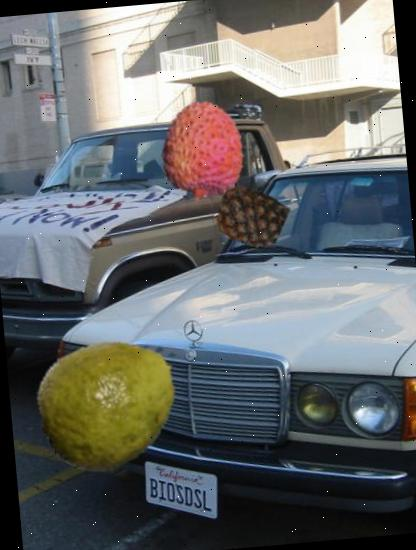Guava: (32, 324, 188, 481)
Lychee: (149, 97, 260, 208)
Pineapple: (213, 180, 288, 255)
